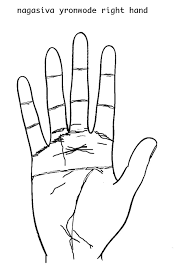palm: (36, 140, 121, 244)
